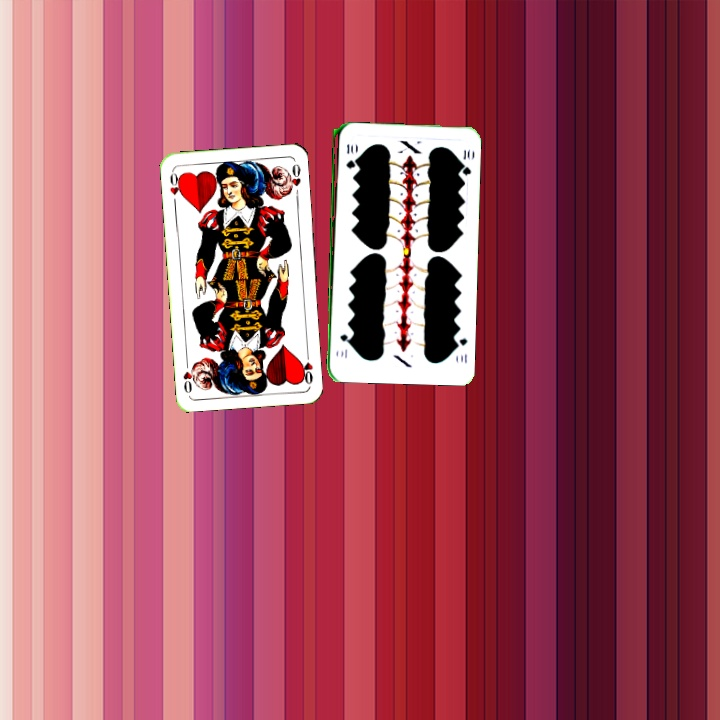G10: (451, 334, 470, 365), (342, 140, 355, 171)
HO: (166, 167, 185, 208), (298, 347, 315, 387)
